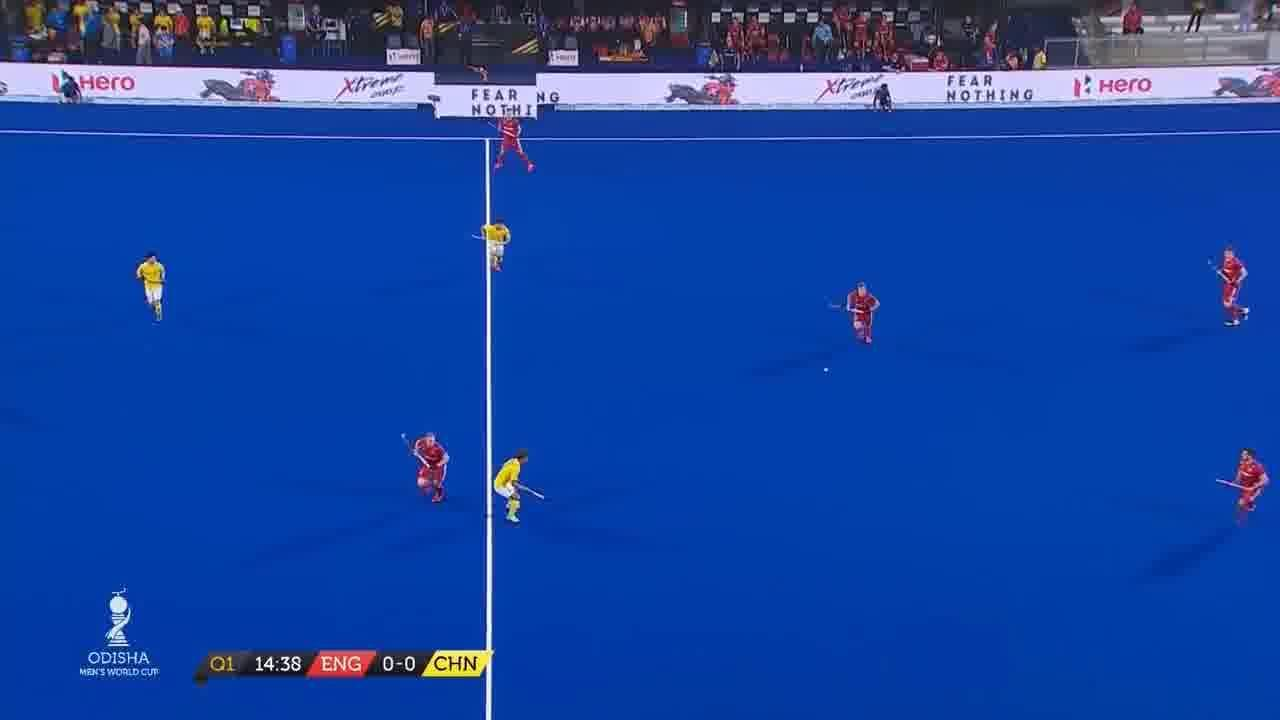ball: (820, 363, 832, 378)
